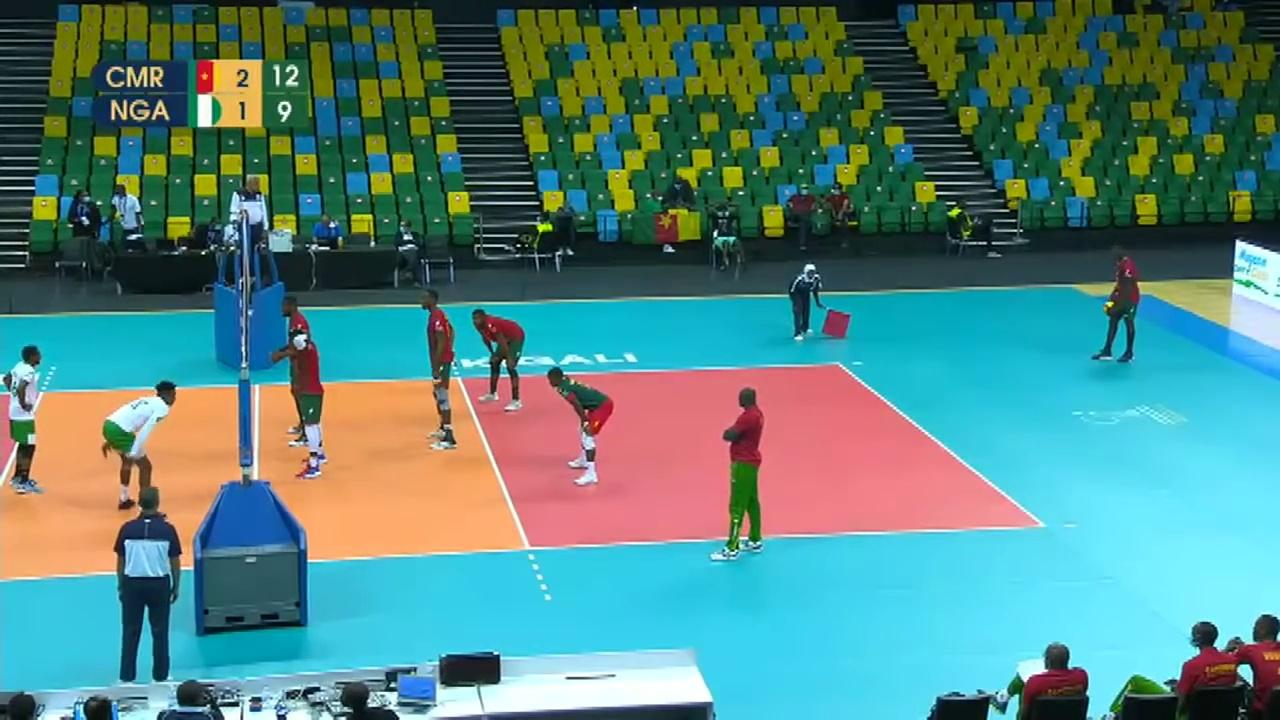player: (100, 382, 178, 509), (545, 365, 609, 482), (284, 328, 331, 479), (3, 346, 51, 491), (277, 291, 321, 449), (421, 290, 463, 446), (472, 308, 527, 410), (1095, 250, 1140, 360)
refree: (111, 485, 189, 687), (229, 174, 269, 276), (791, 261, 827, 343)
